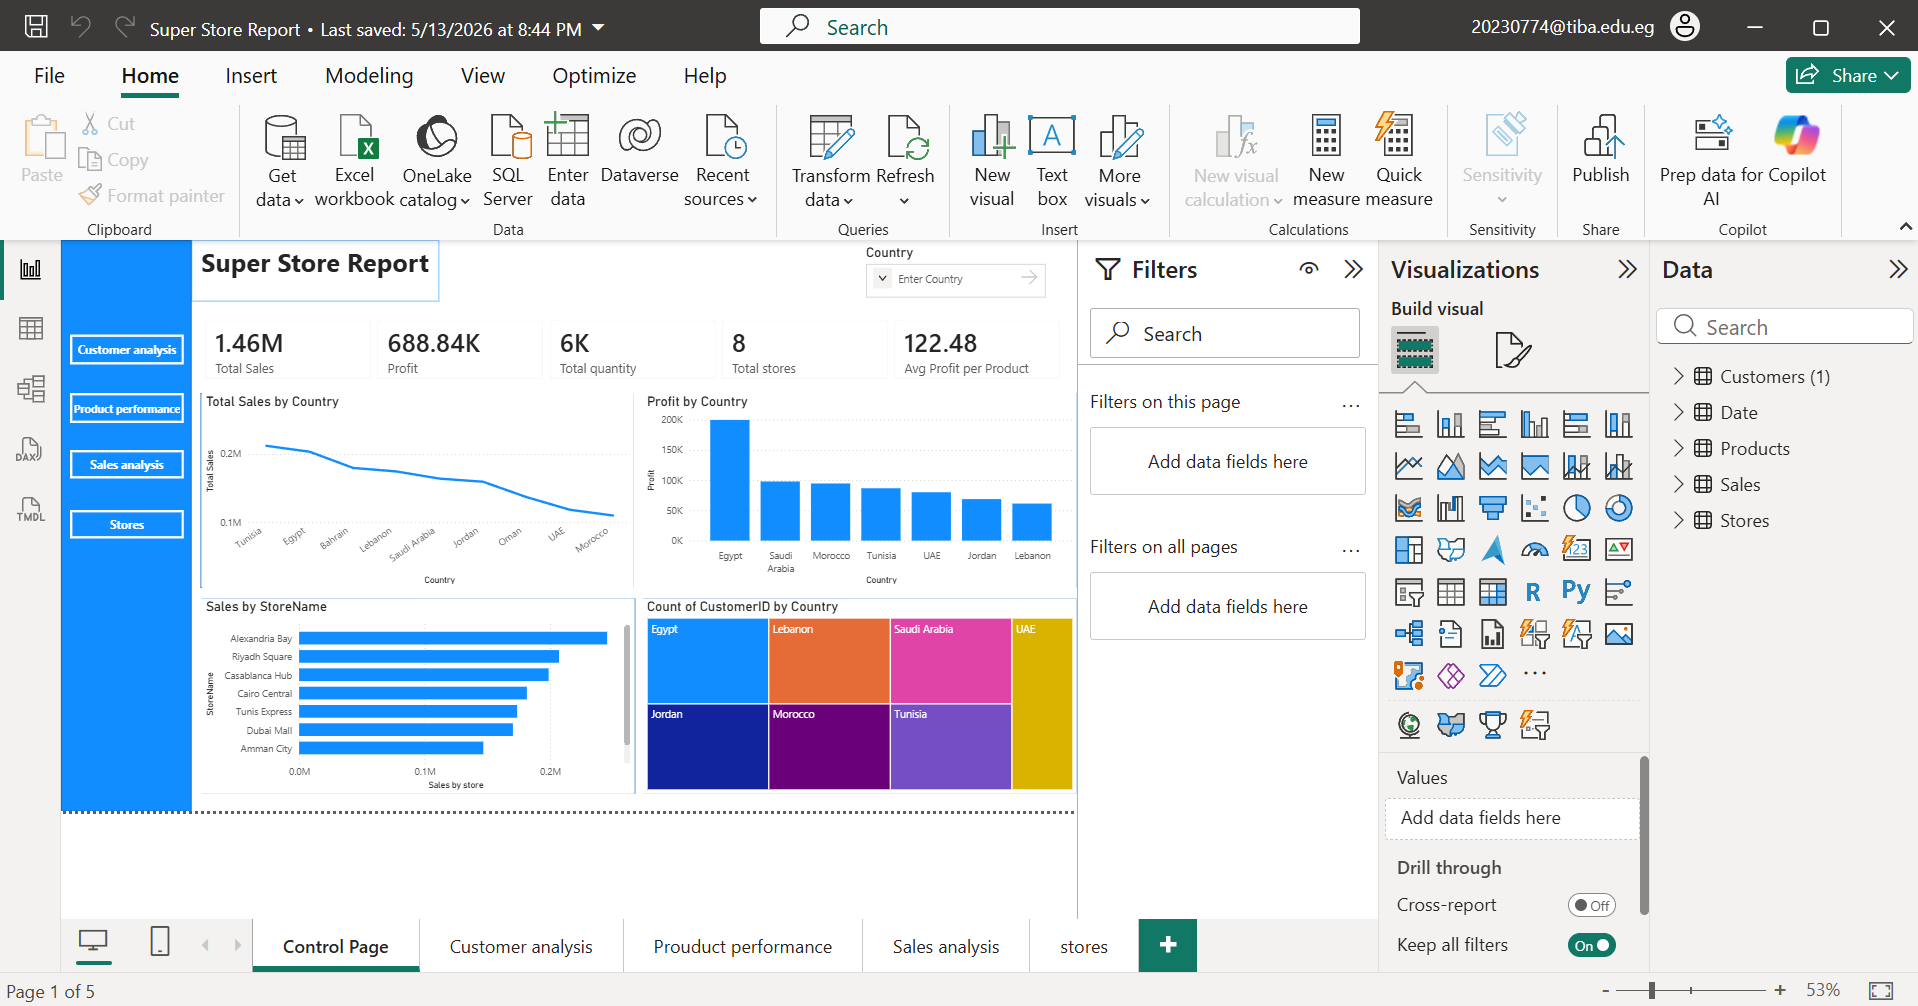

The dashboard page shown, as its layout file describes it:
{"tool":"powerbi","page":{"name":"Control Page","canvas":[1280,720],"ordinal":0},"visuals":[{"type":"textbox","box":[164.4,0,311.8,77.5],"z":0},{"type":"cardVisual","fields":{"Data":["Sales.Total Sales","Products.Profit","Customers (1).Total quantity","Customers (1).Total stores","Customers (1).Avg Sales"]},"box":[164.4,83.2,1115,109.6],"z":1000},{"type":"textSlicer","fields":{"Values":["Stores.Country"]},"box":[1009.1,5.7,236.2,71.8],"z":2000},{"type":"shape","box":[0,0,164.4,720],"z":3000},{"type":"actionButton","box":[11.3,119.1,143.6,37.8],"z":4000},{"type":"actionButton","box":[11.3,264.6,143.6,35.9],"z":5000},{"type":"actionButton","box":[11.3,192.8,143.6,37.8],"z":6000},{"type":"actionButton","box":[11.3,340.2,143.6,35.9],"z":7000},{"type":"shape","box":[175.7,192.8,546.1,245.7],"z":8000},{"type":"shape","box":[177.6,451.7,546.1,245.7],"z":9000},{"type":"shape","box":[733.2,192.8,546.1,245.7],"z":10000},{"type":"shape","box":[733.2,451.7,546.1,245.7],"z":11000},{"type":"lineChart","fields":{"Category":["Customers (1).Country"],"Y":["Sales.Total Sales"]},"box":[177.6,192.8,544.3,245.7],"z":12000},{"type":"clusteredColumnChart","fields":{"Y":["Products.Profit"],"Category":["Stores.Country"]},"box":[733.2,192.8,546.1,245.7],"z":13000},{"type":"clusteredBarChart","title":"Sales by  StoreName","fields":{"Category":["Stores.StoreName"],"Y":["Customers (1).Sales by store"]},"box":[177.6,451.7,544.3,245.7],"z":14000},{"type":"treemap","fields":{"Group":["Stores.Country"],"Values":["CountNonNull(Customers (1).CustomerID)"]},"box":[733.2,451.7,546.1,245.7],"z":15000}]}

Visuals, with their boxes on the page's 1280x720 design canvas (x1, y1, x2, y2). These are canvas units, not pixel positions in the 1918x1006 screenshot, which may show the page scaled, cropped or inside an application window:
textbox: [left=164, top=0, right=476, bottom=78]
cardVisual - Sales.Total Sales x Products.Profit: [left=164, top=83, right=1279, bottom=193]
textSlicer - Stores.Country: [left=1009, top=6, right=1245, bottom=78]
shape: [left=0, top=0, right=164, bottom=720]
actionButton: [left=11, top=119, right=155, bottom=157]
actionButton: [left=11, top=265, right=155, bottom=300]
actionButton: [left=11, top=193, right=155, bottom=231]
actionButton: [left=11, top=340, right=155, bottom=376]
shape: [left=176, top=193, right=722, bottom=438]
shape: [left=178, top=452, right=724, bottom=697]
shape: [left=733, top=193, right=1279, bottom=438]
shape: [left=733, top=452, right=1279, bottom=697]
lineChart - Customers (1).Country x Sales.Total Sales: [left=178, top=193, right=722, bottom=438]
clusteredColumnChart - Products.Profit x Stores.Country: [left=733, top=193, right=1279, bottom=438]
"Sales by  StoreName" clusteredBarChart: [left=178, top=452, right=722, bottom=697]
treemap - Stores.Country x CountNonNull(Customers (1).CustomerID): [left=733, top=452, right=1279, bottom=697]
